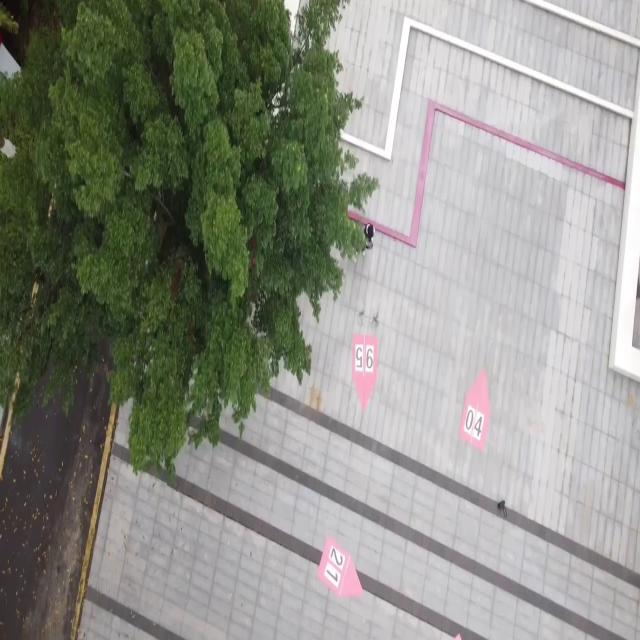-sign-: (317, 535, 364, 600), (459, 366, 492, 455), (351, 332, 379, 410)
